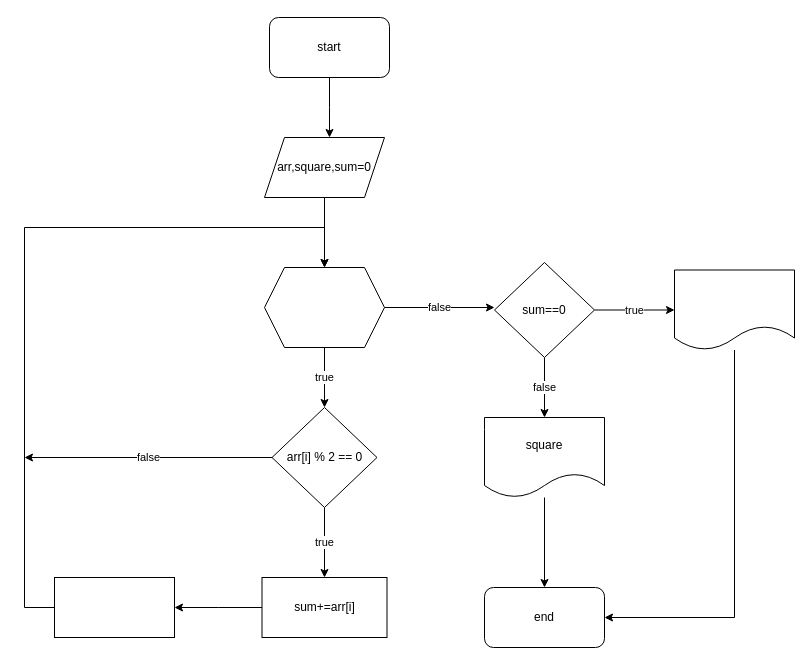
This 812x665 diagram has some shape labels left out. The shapes that lost their labels are listed below. From the top down, each one's box as (x1, y1, x2, y2) in pixels, then its label:
(264, 266, 384, 348): i=0;i<arr.length;i++
(674, 269, 794, 350): There is no even number
(54, 576, 174, 638): square=sum*sum
